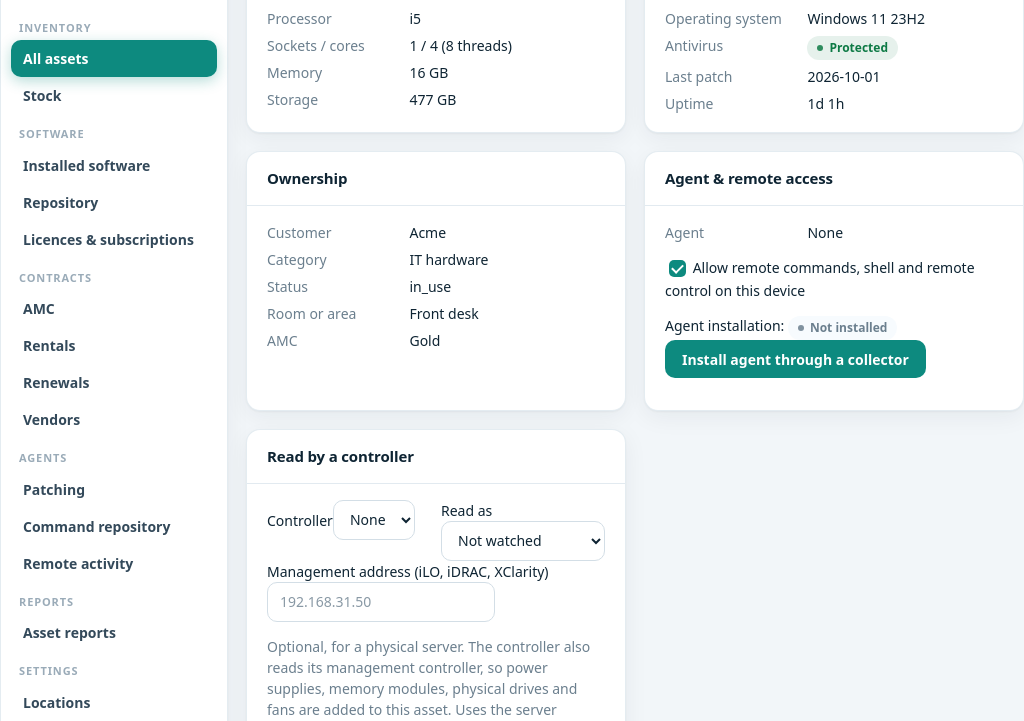
Test: installing the agent through a controller shows each step as it happens
This screenshot has width=1024, height=721.
(page scrolled)
Step 1. Click the button "Install agent through a collector" → [795, 359], box [665,340,926,378]
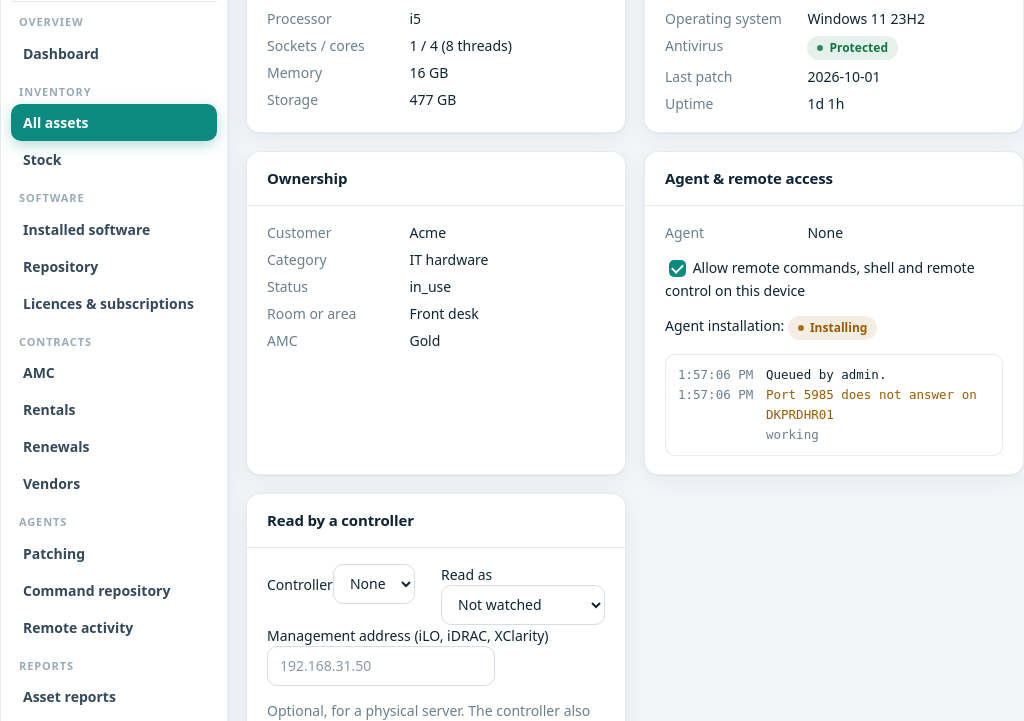
Now the text "Queued by admin." is shown, box [766,367,886,382]
Now the text "Port 5985 does not answer on DKPRDHR01" is shown, box [766,385,990,425]
Now the text "Installing" is shown, box [788,316,877,340]
